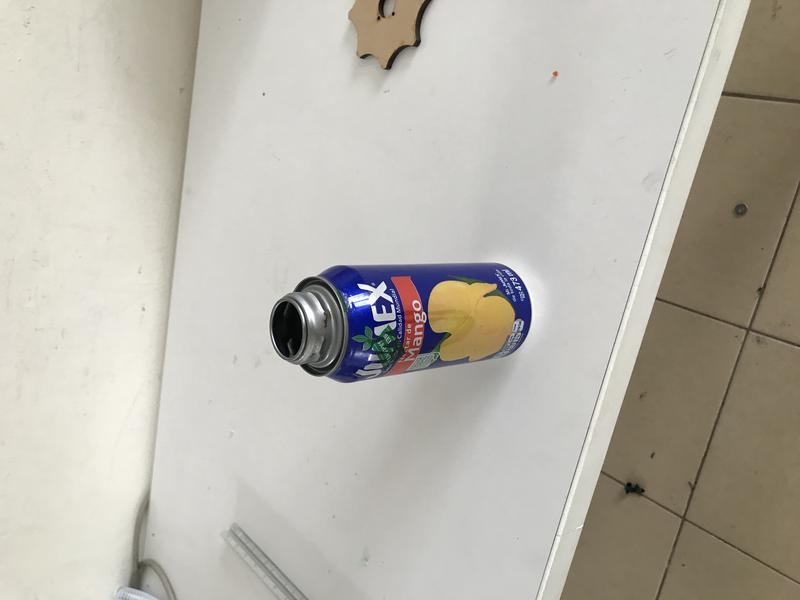jumex_botella: (271, 262, 531, 383)
